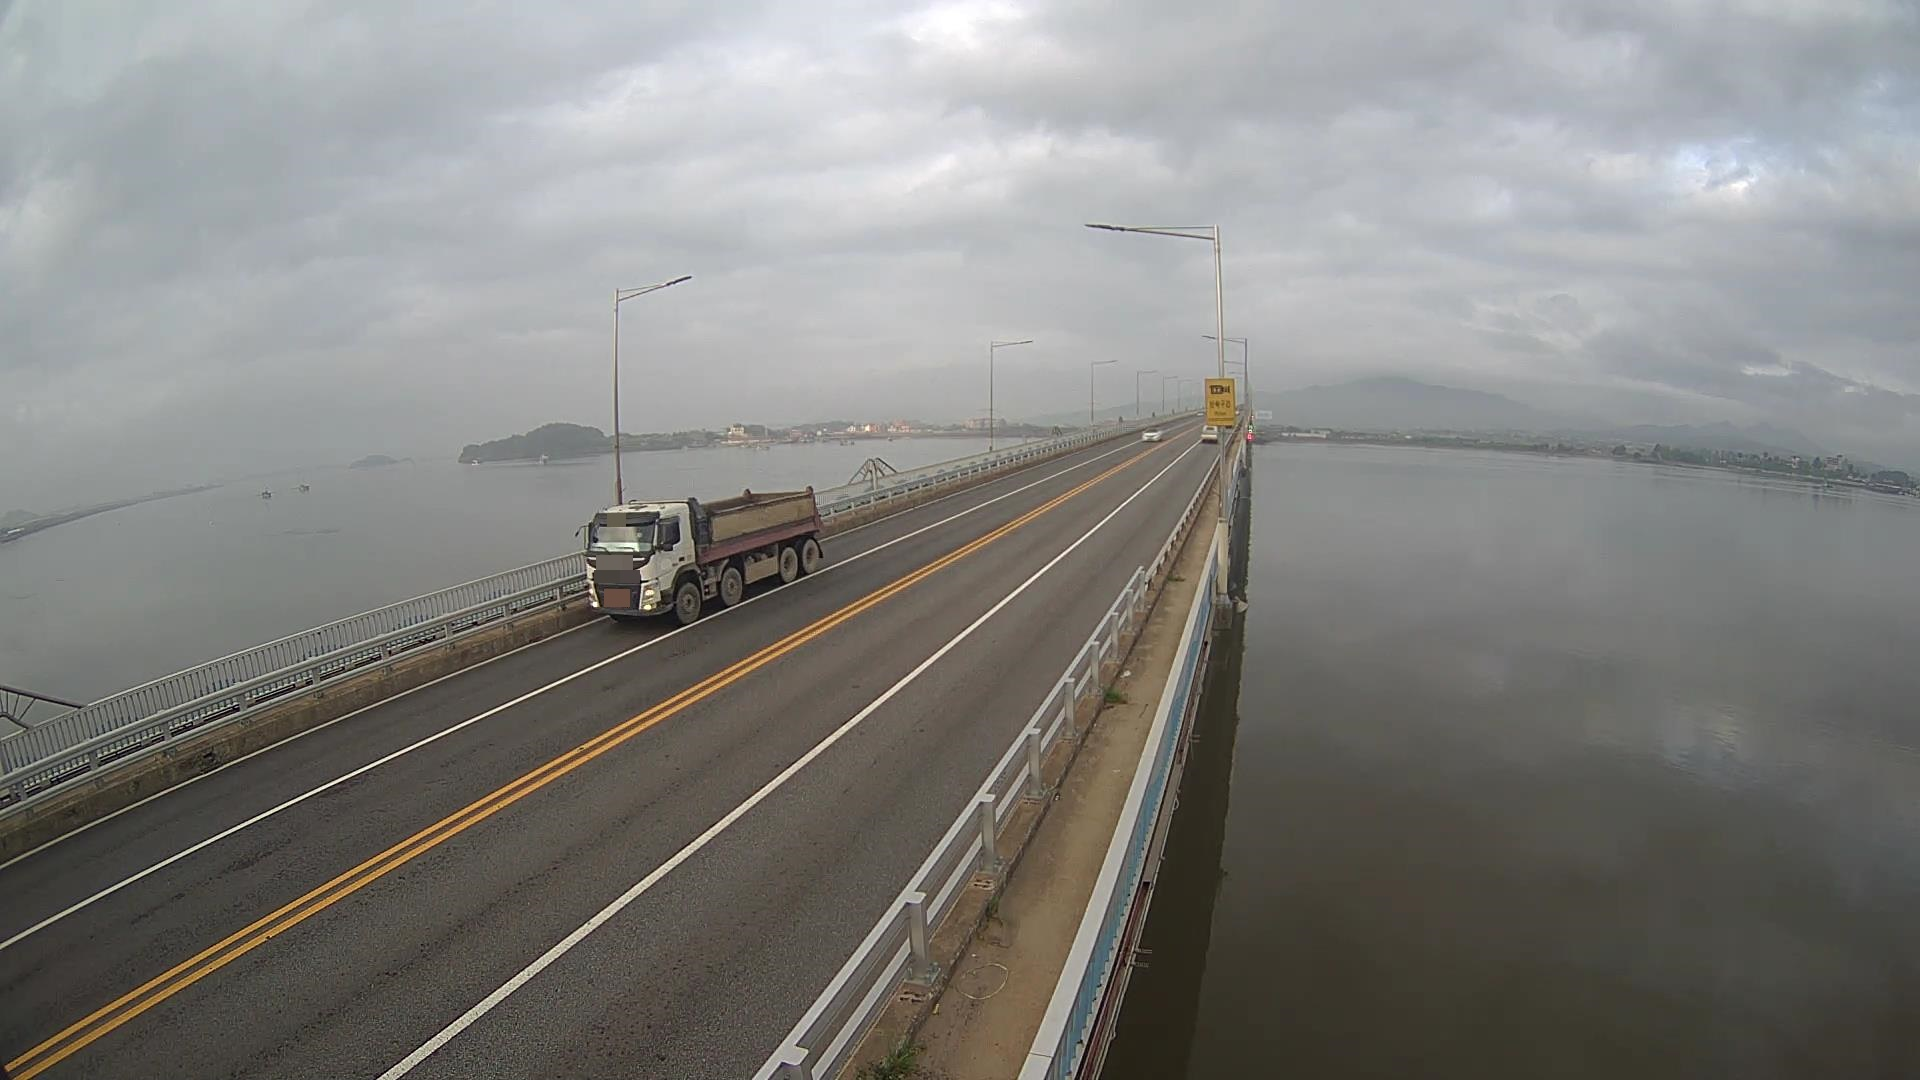정상차량: (575, 487, 823, 625)
